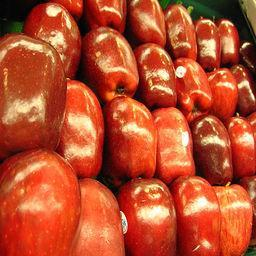apple: (1, 148, 81, 256), (1, 35, 64, 158), (103, 98, 159, 190), (79, 23, 138, 105), (116, 176, 177, 255), (21, 1, 82, 78), (57, 80, 104, 178), (69, 177, 126, 255), (149, 107, 196, 179), (188, 112, 231, 186), (210, 183, 253, 256), (134, 43, 177, 109), (173, 56, 213, 118), (164, 2, 198, 60), (126, 1, 166, 48), (227, 117, 255, 180), (194, 17, 222, 69), (83, 1, 126, 33), (212, 68, 238, 119), (230, 63, 255, 116), (217, 18, 240, 66)
